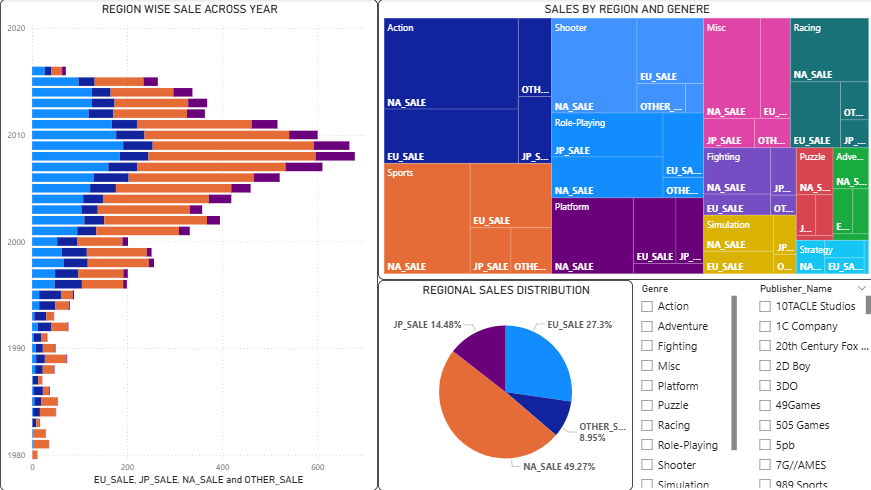

The dashboard page shown, as its layout file describes it:
{"tool":"powerbi","page":{"name":"Page 2","canvas":[1280,720],"ordinal":1},"visuals":[{"type":"pieChart","title":"REGIONAL SALES DISTRIBUTION","fields":{"Y":["video_game_sales.EU_SALE","video_game_sales.OTHER_SALE","video_game_sales.NA_SALE","video_game_sales.JP_SALE"]},"box":[553.2,411.2,373.2,308.8],"z":0},{"type":"barChart","title":"REGION WISE SALE ACROSS YEAR","fields":{"Y":["video_game_sales.EU_SALE","video_game_sales.JP_SALE","video_game_sales.NA_SALE","video_game_sales.OTHER_SALE"],"Category":["video_game_sales.Publish_Year.Variation.Date Hierarchy.Year"]},"box":[0,0,553.2,720],"z":1000},{"type":"treemap","title":"SALES BY REGION AND GENERE","fields":{"Values":["video_game_sales.JP_SALE","video_game_sales.EU_SALE","video_game_sales.NA_SALE","video_game_sales.OTHER_SALE"],"Group":["video_game_genres.Genre"]},"box":[553.2,0,727.3,411.2],"z":2000},{"type":"slicer","fields":{"Values":["video_game_genres.Genre"]},"box":[926.3,411.2,156.6,308.8],"z":3000},{"type":"slicer","fields":{"Values":["video_game_publishers.Publisher_Name"]},"box":[1099,411.2,181.5,308.8],"z":4000}]}

Visuals, with their boxes in screenshot pixels (x1, y1, x2, y2), scaled from the page's 1280x720 canvas onto the 871x490 screenshot:
"REGIONAL SALES DISTRIBUTION" pieChart: (376,280,630,489)
"REGION WISE SALE ACROSS YEAR" barChart: (0,0,376,489)
"SALES BY REGION AND GENERE" treemap: (376,0,870,280)
slicer - video_game_genres.Genre: (630,280,737,489)
slicer - video_game_publishers.Publisher_Name: (748,280,870,489)
